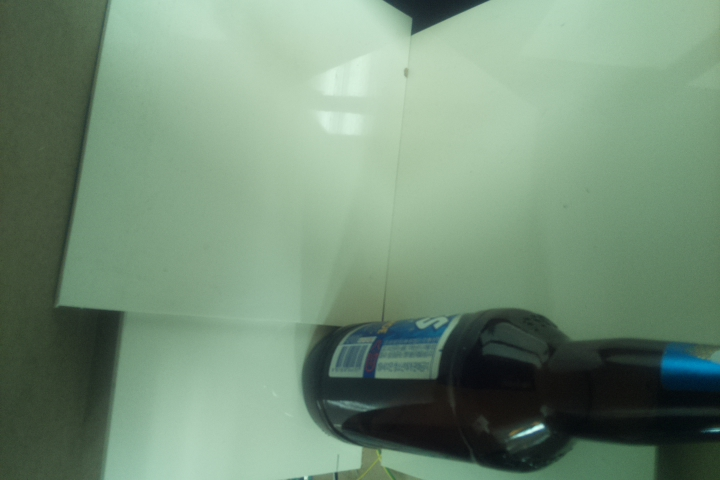makju: (302, 307, 720, 474)
